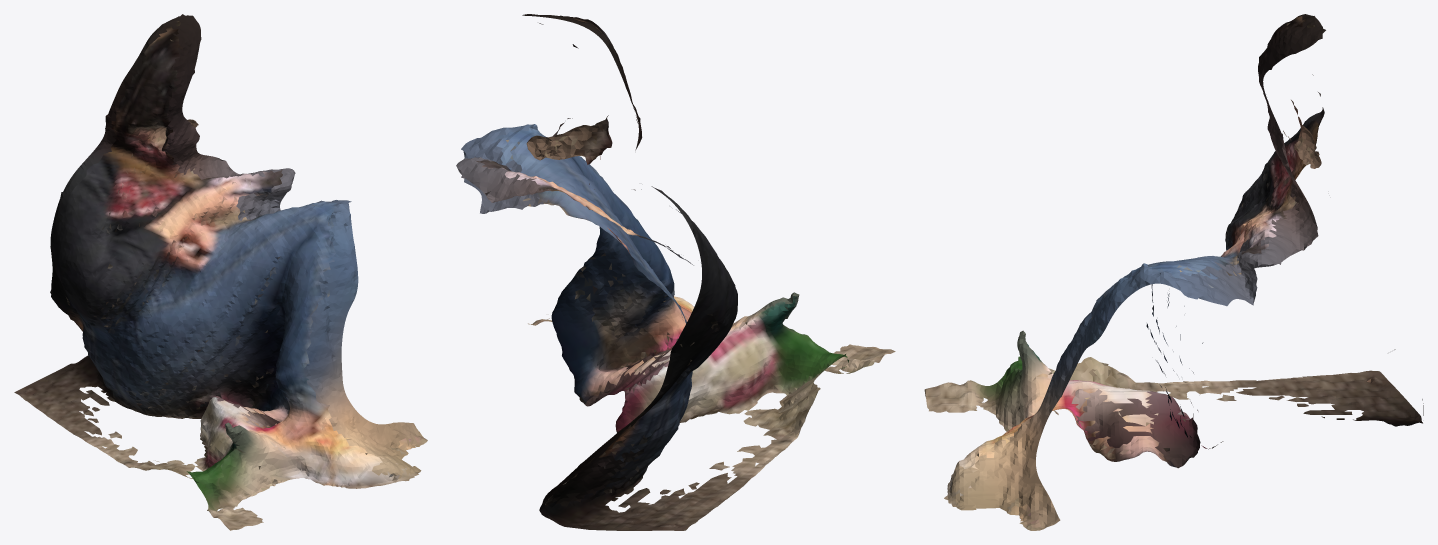
3 renders of one model, left to right at view 1: azimuth 30°, elevation 25°; view 2: azimuth 150°, elevation 25°; view 3: azimuth 270°, elevation 25°, orthographic. The views are drawn at different scales.
Bounding box in the file's own units: 0.5451 × 0.7118 × 0.7466.
Materials: 1 (1 with a texture image).
